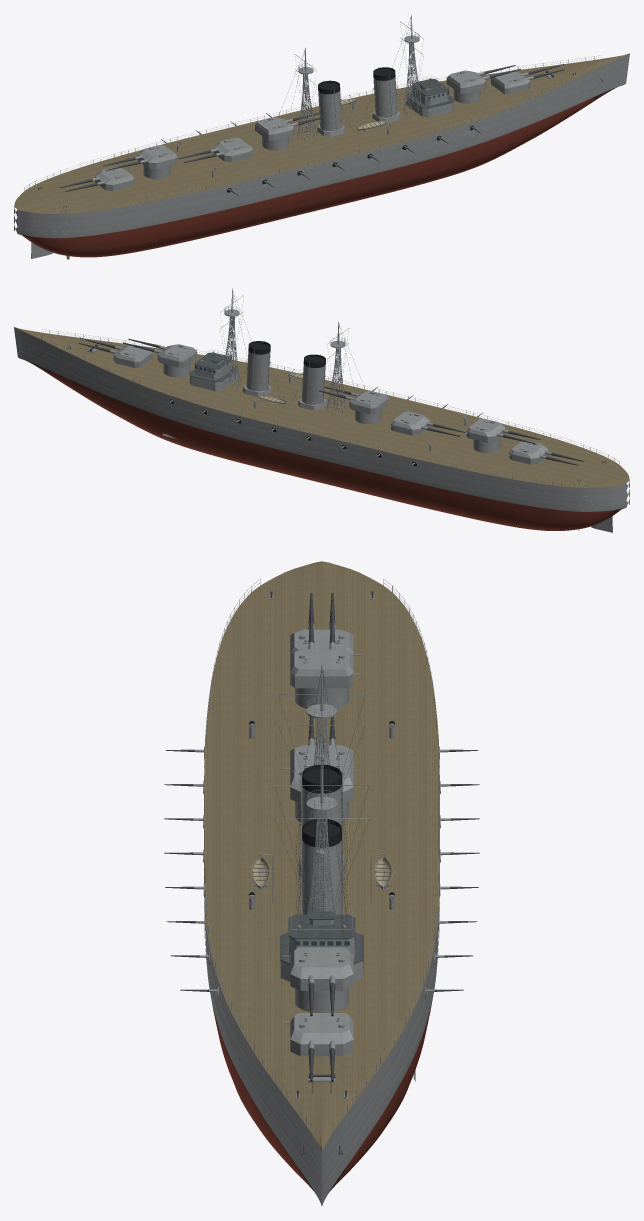
The model's file is wyoming.glb.
The picture shows the model from 3 angles, top to bottom: view 1: azimuth 30°, elevation 25°; view 2: azimuth 150°, elevation 25°; view 3: azimuth 270°, elevation 25°; orthographic projection. The views are drawn at different scales.
Parts seen in each view (by area): view 1: Wyoming class; view 2: Wyoming class; view 3: Wyoming class.
Part boxes in pixels (x1=…): Wyoming class: x1=14, y1=14, x2=629, y2=259; Wyoming class: x1=14, y1=288, x2=629, y2=532; Wyoming class: x1=164, y1=561, x2=479, y2=1205.
Bounding box in the file's own units: 171 × 41.14 × 38.07.
9 materials, 8 textured.
